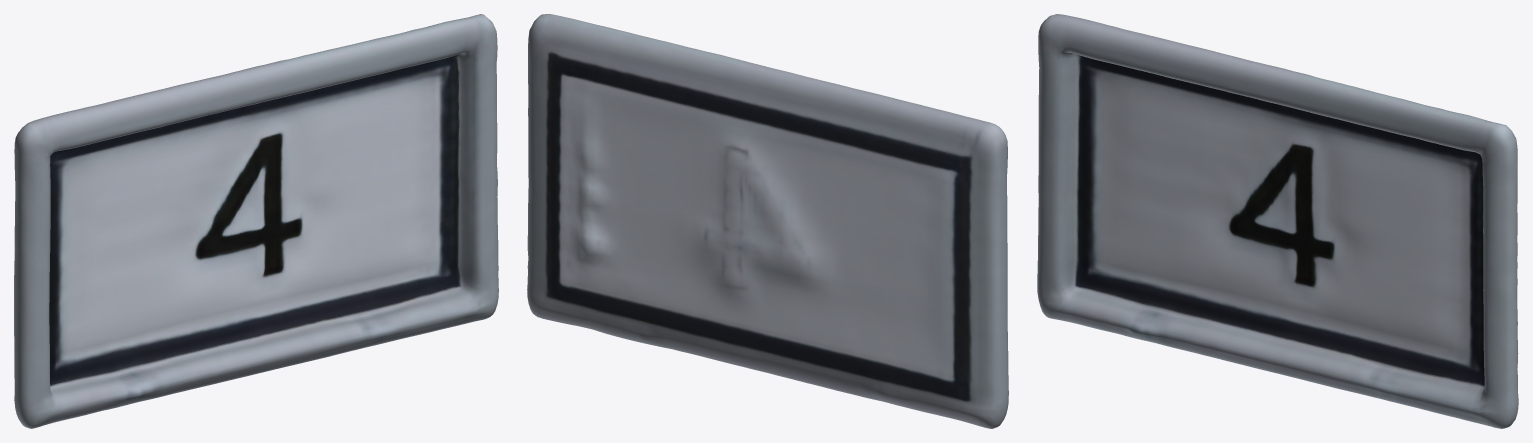
The model's file is whiteboard3.glb.
The picture shows the model from 3 angles, left to right: view 1: azimuth 30°, elevation 25°; view 2: azimuth 150°, elevation 25°; view 3: azimuth 330°, elevation 25°; orthographic projection.
Visible parts, largest first — view 1: mesh; view 2: mesh; view 3: mesh.
Boxes of the visible parts, x1,y1,x2,y2 form: mesh: (14,14,498,428); mesh: (527,14,1008,428); mesh: (1037,14,1518,428).
Size of the model in its own units: 0.9998 by 0.61 by 0.087.
1 material, 1 textured.
